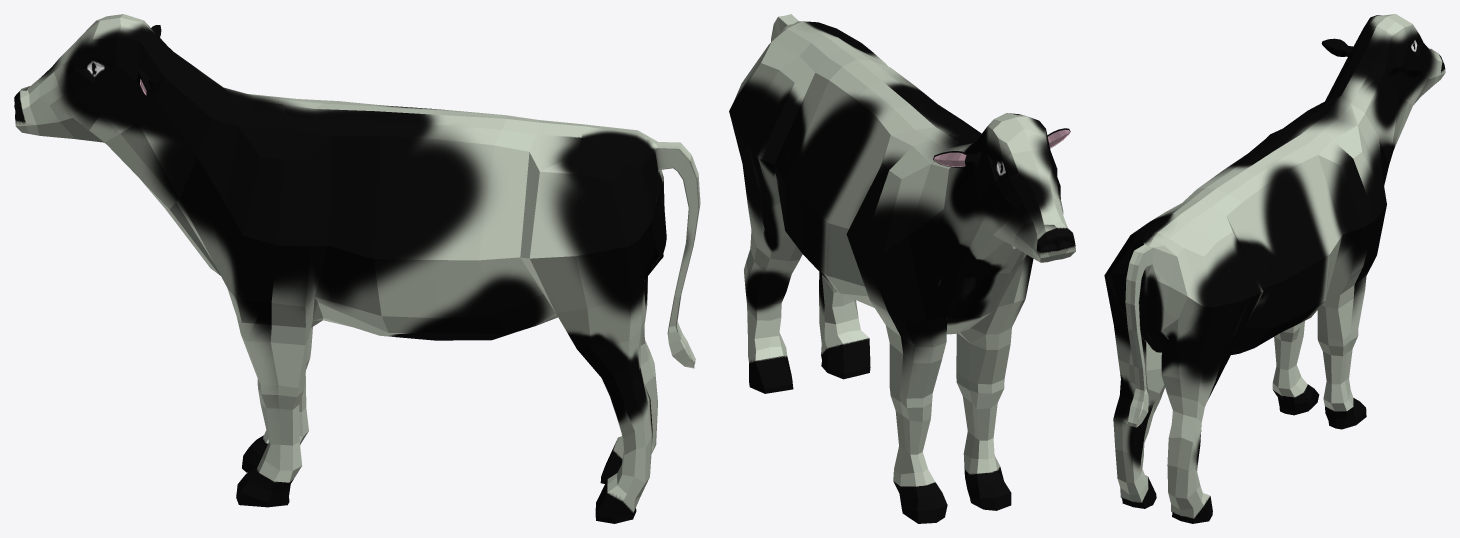
The model's file is Cow_v3.glb.
3 renders of one model, left to right at view 1: azimuth 30°, elevation 25°; view 2: azimuth 150°, elevation 25°; view 3: azimuth 270°, elevation 25°, orthographic. The views are drawn at different scales.
Parts seen in each view (by area): view 1: Cube.001; view 2: Cube.001; view 3: Cube.001.
Part boxes in pixels (bbox=[...]): Cube.001: bbox=[14, 14, 700, 523]; Cube.001: bbox=[729, 14, 1075, 523]; Cube.001: bbox=[1104, 14, 1445, 523].
Size of the model in its own units: 3.59 by 3.16 by 2.73.
1 material, 1 textured.
